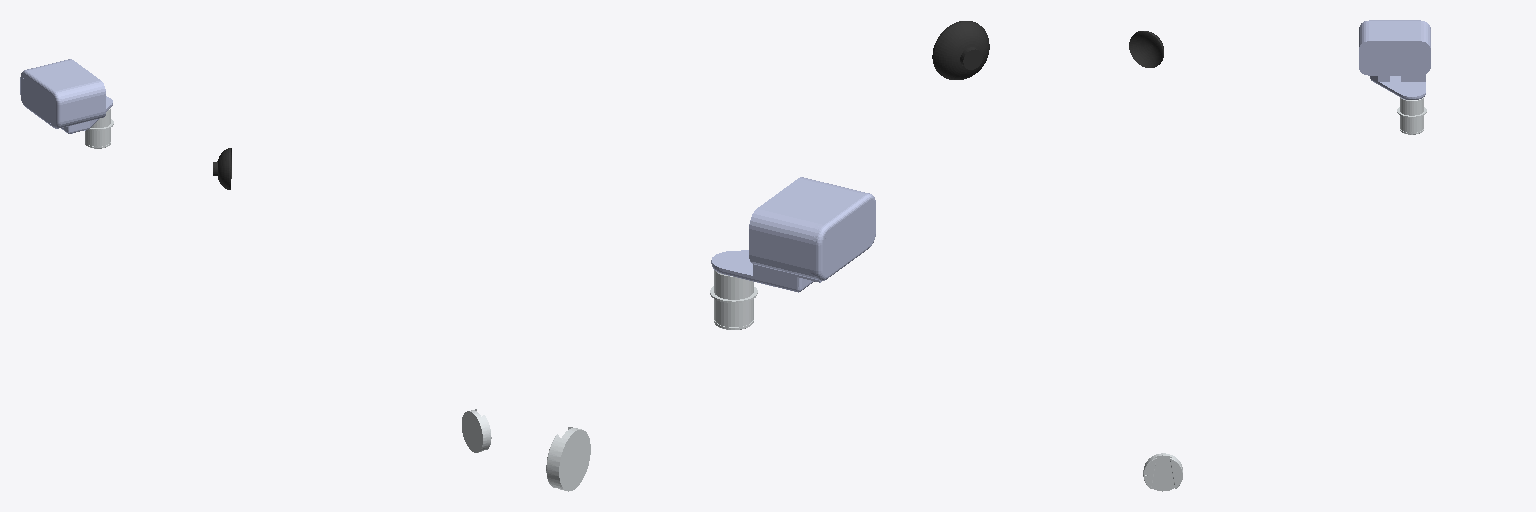
URDF robot description (stretch_description_S2_DexWrist_collision):
<?xml version="1.0" encoding="utf-8"?>
<!-- This URDF was automatically created by SolidWorks to URDF Exporter! Originally created by [author] ([email redacted]) 
     Commit Version: 1.5.1-0-g916b5db  Build Version: 1.5.7152.31018
     For more information, please see http://wiki.ros.org/sw_urdf_exporter -->
<robot
  name="stretch_description_S2_DexWrist_collision">
  <link
    name="link_wrist_yaw">
    <inertial>
      <origin
        xyz="2.13511708313519E-11 2.9317167203613E-05 -0.0189665926447244"
        rpy="0 0 0" />
      <mass
        value="0.0404746907425004" />
      <inertia
        ixx="6.57801136682346E-06"
        ixy="7.84074076376462E-16"
        ixz="-1.98867516282145E-14"
        iyy="6.58204899910505E-06"
        iyz="-5.83819552651487E-09"
        izz="3.85021258520436E-06" />
    </inertial>
    <visual>
      <origin
        xyz="0 0 0"
        rpy="0 0 0" />
      <geometry>
        <mesh
          filename="package://stretch_description_S2_DexWrist_collision/meshes/link_wrist_yaw.STL" />
      </geometry>
      <material
        name="">
        <color
          rgba="0.898039215686275 0.917647058823529 0.929411764705882 1" />
      </material>
    </visual>
    <collision>
      <origin
        xyz="0 0 0"
        rpy="0 0 0" />
      <geometry>
        <mesh
          filename="package://stretch_description_S2_DexWrist_collision/meshes/link_wrist_yaw.STL" />
      </geometry>
    </collision>
  </link>
  <link
    name="link_wrist_yaw_bottom">
    <inertial>
      <origin
        xyz="-0.0683217542302587 0.00538005902573899 -0.0419204938935739"
        rpy="0 0 0" />
      <mass
        value="1.10452404362554" />
      <inertia
        ixx="0.00127801864813811"
        ixy="-0.000516425121091203"
        ixz="-0.000959076023858974"
        iyy="0.00893545742001764"
        iyz="-0.000125396263426211"
        izz="0.00890171644441673" />
    </inertial>
    <visual>
      <origin
        xyz="0 0 0"
        rpy="0 0 0" />
      <geometry>
        <mesh
          filename="package://stretch_description_S2_DexWrist_collision/meshes/link_wrist_yaw_bottom.STL" />
      </geometry>
      <material
        name="">
        <color
          rgba="0.792156862745098 0.819607843137255 0.933333333333333 1" />
      </material>
    </visual>
    <collision>
      <origin
        xyz="0 0 0"
        rpy="0 0 0" />
      <geometry>
        <mesh
          filename="package://stretch_description_S2_DexWrist_collision/meshes/link_wrist_yaw_bottom.STL" />
      </geometry>
    </collision>
  </link>
  <joint
    name="joint_wrist_yaw_bottom"
    type="fixed">
    <origin
      xyz="0 0 0"
      rpy="3.14159265358979 0 1.5707963267949" />
    <parent
      link="link_wrist_yaw" />
    <child
      link="link_wrist_yaw_bottom" />
    <axis
      xyz="0 0 0" />
  </joint>
  <link
    name="link_wrist_pitch">
    <inertial>
      <origin
        xyz="-0.00617937220388573 -0.0139964000000009 0.0207700000000022"
        rpy="0 0 0" />
      <mass
        value="0.15000477021637" />
      <inertia
        ixx="7.61969543459943E-05"
        ixy="1.9663363536316E-20"
        ixz="-8.01773738889141E-20"
        iyy="5.89733516876999E-05"
        iyz="-3.08931134421017E-20"
        izz="8.84047563690512E-05" />
    </inertial>
    <visual>
      <origin
        xyz="0 0 0"
        rpy="0 0 0" />
      <geometry>
        <mesh
          filename="package://stretch_description_S2_DexWrist_collision/meshes/link_wrist_pitch.STL" />
      </geometry>
      <material
        name="">
        <color
          rgba="0.792156862745098 0.819607843137255 0.933333333333333 1" />
      </material>
    </visual>
    <collision>
      <origin
        xyz="0 0 0"
        rpy="0 0 0" />
      <geometry>
        <mesh
          filename="package://stretch_description_S2_DexWrist_collision/meshes/link_wrist_pitch.STL" />
      </geometry>
    </collision>
  </link>
  <joint
    name="joint_wrist_pitch"
    type="revolute">
    <origin
      xyz="0 0.019550000000003 -0.0247499999999998"
      rpy="1.5707963267949 0 0" />
    <parent
      link="link_wrist_yaw_bottom" />
    <child
      link="link_wrist_pitch" />
    <axis
      xyz="0 0 1" />
    <limit
      lower="0"
      upper="0"
      effort="0"
      velocity="0" />
  </joint>
  <link
    name="link_wrist_roll">
    <inertial>
      <origin
        xyz="-9.50000000021489E-05 0.00199640000010454 0.00725000000016465"
        rpy="0 0 0" />
      <mass
        value="0.0244438960645035" />
      <inertia
        ixx="1.70010385470263E-06"
        ixy="-9.18349126874606E-23"
        ixz="4.22947426121602E-21"
        iyy="1.70010385470263E-06"
        iyz="7.23780352272153E-21"
        izz="2.54365285147829E-06" />
    </inertial>
    <visual>
      <origin
        xyz="0 0 0"
        rpy="0 0 0" />
      <geometry>
        <mesh
          filename="package://stretch_description_S2_DexWrist_collision/meshes/link_wrist_roll.STL" />
      </geometry>
      <material
        name="">
        <color
          rgba="0.898039215686275 0.917647058823529 0.929411764705882 1" />
      </material>
    </visual>
    <collision>
      <origin
        xyz="0 0 0"
        rpy="0 0 0" />
      <geometry>
        <mesh
          filename="package://stretch_description_S2_DexWrist_collision/meshes/link_wrist_roll.STL" />
      </geometry>
    </collision>
  </link>
  <joint
    name="joint_wrist_roll"
    type="revolute">
    <origin
      xyz="-0.0188587444076125 -0.0239999999998942 0.01955"
      rpy="3.14159265358979 1.5707963267949 0" />
    <parent
      link="link_wrist_pitch" />
    <child
      link="link_wrist_roll" />
    <axis
      xyz="0 0 1" />
    <limit
      lower="0"
      upper="0"
      effort="0"
      velocity="0" />
  </joint>
  <link
    name="link_straight_gripper">
    <inertial>
      <origin
        xyz="5.7184495298207E-05 -0.0157806549633661 0.05314073996998"
        rpy="0 0 0" />
      <mass
        value="0.335402730441026" />
      <inertia
        ixx="0.000417153658167148"
        ixy="-9.82158396097524E-20"
        ixz="1.31789605006073E-18"
        iyy="0.000411516250204736"
        iyz="3.05734171337768E-18"
        izz="0.00017324384229661" />
    </inertial>
    <visual>
      <origin
        xyz="0 0 0"
        rpy="0 0 0" />
      <geometry>
        <mesh
          filename="package://stretch_description_S2_DexWrist_collision/meshes/link_straight_gripper.STL" />
      </geometry>
      <material
        name="">
        <color
          rgba="0.792156862745098 0.819607843137255 0.933333333333333 1" />
      </material>
    </visual>
    <collision>
      <origin
        xyz="0 0 0"
        rpy="0 0 0" />
      <geometry>
        <mesh
          filename="package://stretch_description_S2_DexWrist_collision/meshes/link_straight_gripper.STL" />
      </geometry>
    </collision>
  </link>
  <joint
    name="joint_straight_gripper"
    type="fixed">
    <origin
      xyz="0 0 0.0155"
      rpy="0 0 -3.14159265358979" />
    <parent
      link="link_wrist_roll" />
    <child
      link="link_straight_gripper" />
    <axis
      xyz="0 0 0" />
  </joint>
  <link
    name="link_gripper_finger_right">
    <inertial>
      <origin
        xyz="-0.0984333652198142 -0.00569511491683361 1.66533453693773E-16"
        rpy="0 0 0" />
      <mass
        value="0.105960039435584" />
      <inertia
        ixx="2.44270436973041E-05"
        ixy="4.67908503591321E-05"
        ixz="5.56045604994941E-18"
        iyy="0.000322806035440953"
        iyz="-2.0097361514886E-18"
        izz="0.000344248538027489" />
    </inertial>
    <visual>
      <origin
        xyz="0 0 0"
        rpy="0 0 0" />
      <geometry>
        <mesh
          filename="package://stretch_description_S2_DexWrist_collision/meshes/link_gripper_finger_right.STL" />
      </geometry>
      <material
        name="">
        <color
          rgba="0.792156862745098 0.819607843137255 0.933333333333333 1" />
      </material>
    </visual>
    <collision>
      <origin
        xyz="0 0 0"
        rpy="0 0 0" />
      <geometry>
        <mesh
          filename="package://stretch_description_S2_DexWrist_collision/meshes/link_gripper_finger_right.STL" />
      </geometry>
    </collision>
  </link>
  <joint
    name="joint_gripper_finger_right"
    type="revolute">
    <origin
      xyz="-0.0185992414250104 0.00300000000000022 0.0336888959851238"
      rpy="1.5707963267949 1.5707963267949 0" />
    <parent
      link="link_straight_gripper" />
    <child
      link="link_gripper_finger_right" />
    <axis
      xyz="0 0 1" />
    <limit
      lower="0"
      upper="0"
      effort="0"
      velocity="0" />
  </joint>
  <link
    name="link_gripper_fingertip_right">
    <inertial>
      <origin
        xyz="0 5.55111512312578E-17 0.00850000000000001"
        rpy="0 0 0" />
      <mass
        value="0.0272" />
      <inertia
        ixx="4.28173333333334E-06"
        ixy="1.47508445775238E-22"
        ixz="5.29395592047911E-22"
        iyy="4.28173333333334E-06"
        iyz="6.33894078590831E-22"
        izz="7.25333333333334E-06" />
    </inertial>
    <visual>
      <origin
        xyz="0 0 0"
        rpy="0 0 0" />
      <geometry>
        <mesh
          filename="package://stretch_description_S2_DexWrist_collision/meshes/link_gripper_fingertip_right.STL" />
      </geometry>
      <material
        name="">
        <color
          rgba="0.250980392156863 0.250980392156863 0.250980392156863 1" />
      </material>
    </visual>
    <collision>
      <origin
        xyz="0 0 0"
        rpy="0 0 0" />
      <geometry>
        <mesh
          filename="package://stretch_description_S2_DexWrist_collision/meshes/link_gripper_fingertip_right.STL" />
      </geometry>
    </collision>
  </link>
  <joint
    name="joint_gripper_fingertip_right"
    type="fixed">
    <origin
      xyz="-0.190596948563867 -0.00604200491765763 0"
      rpy="-1.57079632679483 0 0.540456056432235" />
    <parent
      link="link_gripper_finger_right" />
    <child
      link="link_gripper_fingertip_right" />
    <axis
      xyz="0 0 0" />
  </joint>
  <link
    name="link_gripper_finger_left">
    <inertial>
      <origin
        xyz="0.0984333652198142 -0.00569511491683372 1.0547118733939E-15"
        rpy="0 0 0" />
      <mass
        value="0.105960039435583" />
      <inertia
        ixx="2.44270436973039E-05"
        ixy="-4.67908503591317E-05"
        ixz="1.18414791944655E-18"
        iyy="0.000322806035440951"
        iyz="1.25226946096361E-18"
        izz="0.000344248538027487" />
    </inertial>
    <visual>
      <origin
        xyz="0 0 0"
        rpy="0 0 0" />
      <geometry>
        <mesh
          filename="package://stretch_description_S2_DexWrist_collision/meshes/link_gripper_finger_left.STL" />
      </geometry>
      <material
        name="">
        <color
          rgba="0.792156862745098 0.819607843137255 0.933333333333333 1" />
      </material>
    </visual>
    <collision>
      <origin
        xyz="0 0 0"
        rpy="0 0 0" />
      <geometry>
        <mesh
          filename="package://stretch_description_S2_DexWrist_collision/meshes/link_gripper_finger_left.STL" />
      </geometry>
    </collision>
  </link>
  <joint
    name="joint_gripper_finger_left"
    type="revolute">
    <origin
      xyz="0.0185992414250199 0.0029999999999975 0.0336888959851238"
      rpy="1.5707963267949 -1.5707963267949 0" />
    <parent
      link="link_straight_gripper" />
    <child
      link="link_gripper_finger_left" />
    <axis
      xyz="0 0 1" />
    <limit
      lower="0"
      upper="0"
      effort="0"
      velocity="0" />
  </joint>
  <link
    name="link_gripper_fingertip_left">
    <inertial>
      <origin
        xyz="-1.11022302462516E-16 0 0.00849999999999998"
        rpy="0 0 0" />
      <mass
        value="0.0272" />
      <inertia
        ixx="4.28173333333334E-06"
        ixy="4.68917677557754E-21"
        ixz="-3.17637355203819E-22"
        iyy="4.28173333333334E-06"
        iyz="-1.1552205921835E-21"
        izz="7.25333333333334E-06" />
    </inertial>
    <visual>
      <origin
        xyz="0 0 0"
        rpy="0 0 0" />
      <geometry>
        <mesh
          filename="package://stretch_description_S2_DexWrist_collision/meshes/link_gripper_fingertip_left.STL" />
      </geometry>
      <material
        name="">
        <color
          rgba="0.250980392156863 0.250980392156863 0.250980392156863 1" />
      </material>
    </visual>
    <collision>
      <origin
        xyz="0 0 0"
        rpy="0 0 0" />
      <geometry>
        <mesh
          filename="package://stretch_description_S2_DexWrist_collision/meshes/link_gripper_fingertip_left.STL" />
      </geometry>
    </collision>
  </link>
  <joint
    name="joint_gripper_fingertip_left"
    type="fixed">
    <origin
      xyz="0.190596948563867 -0.00604200491765788 0"
      rpy="1.57079632679496 0 2.60113659715756" />
    <parent
      link="link_gripper_finger_left" />
    <child
      link="link_gripper_fingertip_left" />
    <axis
      xyz="0 0 0" />
  </joint>
</robot>

--- Facts derived from the render (not from the file) ---
Views: 3 orthographic renders of the robot side by side, from view 1: azimuth 30°, elevation 25°; view 2: azimuth 150°, elevation 25°; view 3: azimuth 270°, elevation 25°.
Robot: stretch_description_S2_DexWrist_collision — 9 links, 8 joints (4 revolute, 4 fixed); root link link_wrist_yaw; default pose: all joints at 0.
Visible links, largest first — view 1: link_wrist_yaw_bottom, link_wrist_roll, link_wrist_yaw, link_gripper_fingertip_left; view 2: link_wrist_yaw_bottom, link_gripper_fingertip_left, link_wrist_roll, link_wrist_yaw; view 3: link_wrist_yaw_bottom, link_wrist_roll, link_gripper_fingertip_left, link_wrist_yaw.
Boxes of the visible links, <box> form: link_wrist_yaw_bottom: <box>20,59,112,133</box>; link_wrist_roll: <box>462,409,491,452</box>; link_wrist_yaw: <box>85,108,113,148</box>; link_gripper_fingertip_left: <box>213,148,231,189</box>; link_wrist_yaw_bottom: <box>711,177,875,292</box>; link_gripper_fingertip_left: <box>932,21,989,79</box>; link_wrist_roll: <box>546,427,590,491</box>; link_wrist_yaw: <box>710,270,757,329</box>; link_wrist_yaw_bottom: <box>1359,20,1430,99</box>; link_wrist_roll: <box>1143,453,1182,491</box>; link_gripper_fingertip_left: <box>1129,31,1163,67</box>; link_wrist_yaw: <box>1397,97,1426,134</box>.
Bounding box of the posed robot: 0.3434 × 0.3034 × 0.3814 m (x, y, z).
4 mesh visuals loaded from 9 distinct referenced files (4 binary STL); not drawn: 5 (reference not matched to a file when rendering).